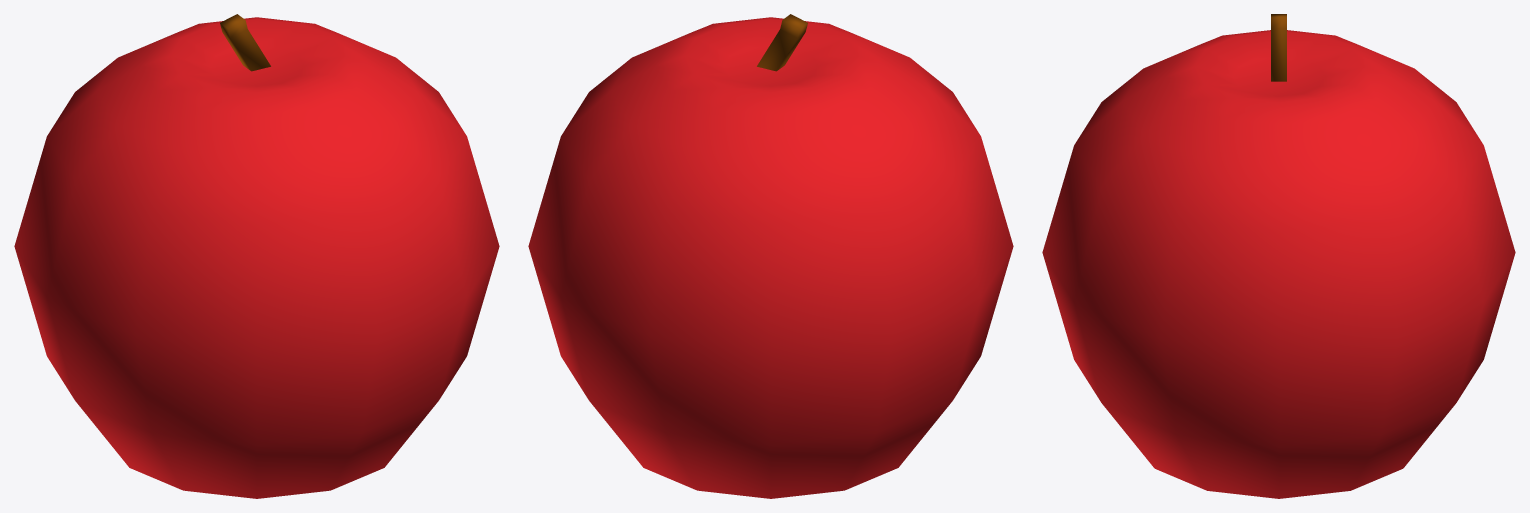
File: Item_Apple.glb
3 renders of one model, left to right at view 1: azimuth 30°, elevation 25°; view 2: azimuth 150°, elevation 25°; view 3: azimuth 270°, elevation 25°, orthographic. The views are drawn at different scales.
Parts seen in each view (by area): view 1: Item_Apple; view 2: Item_Apple; view 3: Item_Apple.
Part boxes in pixels (left/top/right/bottom): Item_Apple: left=14, top=14, right=499, bottom=498; Item_Apple: left=528, top=14, right=1013, bottom=498; Item_Apple: left=1042, top=14, right=1515, bottom=498.
Bounding box in the file's own units: 0.423 × 0.4365 × 0.423.
